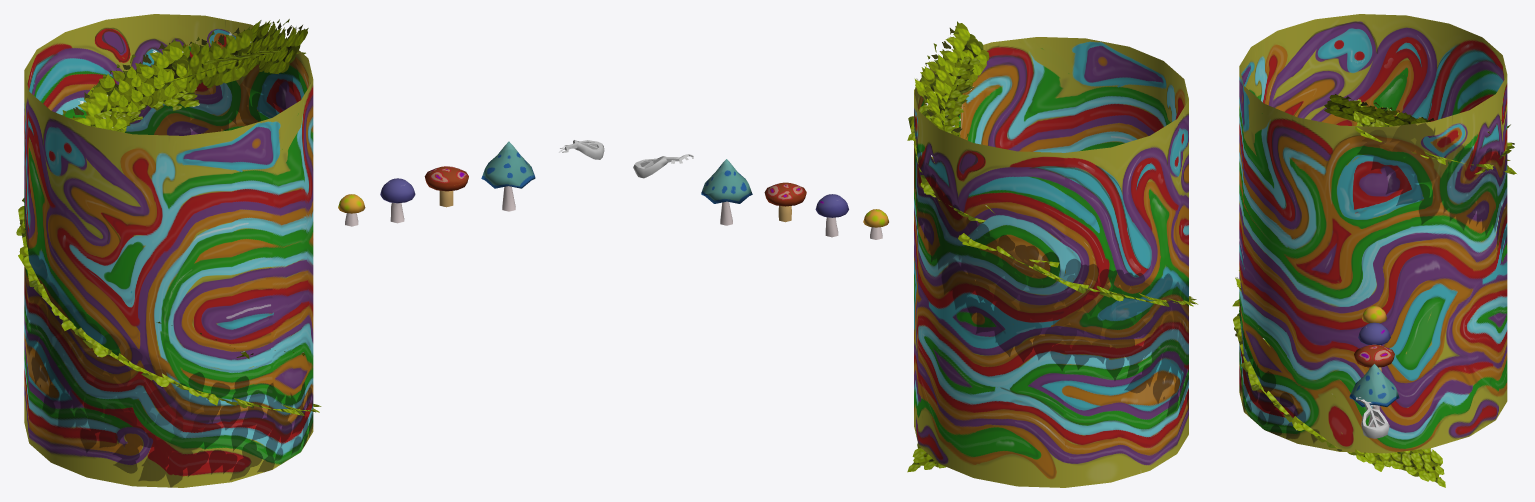
The model's file is section.dae.
3 views of the same model, side by side, from view 1: azimuth 30°, elevation 25°; view 2: azimuth 150°, elevation 25°; view 3: azimuth 270°, elevation 25° (orthographic). The views are drawn at different scales.
Visible parts, largest first — view 1: Cylinder001, Plane148, Plane149, Plane150, Sphere004, Plane147, Sphere003, Sphere002, Plane029; view 2: Cylinder001, Plane150, Sphere004, Plane020, Sphere003, Sphere002, Sphere005, Plane149; view 3: Cylinder001, Plane153, Plane150, Sphere004, Sphere003, Sphere005, Plane020, Sphere002, Plane018, Sphere001, Plane021, Plane025.
Part boxes in pixels (<box>): Cylinder001: <box>24,14,313,487</box>; Plane148: <box>84,39,188,129</box>; Plane149: <box>165,26,252,100</box>; Plane150: <box>236,19,308,74</box>; Sphere004: <box>481,141,535,211</box>; Plane147: <box>62,85,130,132</box>; Sphere003: <box>424,166,468,207</box>; Sphere002: <box>380,178,415,223</box>; Plane029: <box>94,89,199,119</box>; Cylinder001: <box>914,37,1188,487</box>; Plane150: <box>914,21,989,106</box>; Sphere004: <box>701,159,752,225</box>; Plane020: <box>907,56,980,140</box>; Sphere003: <box>764,182,806,222</box>; Sphere002: <box>815,194,848,237</box>; Sphere005: <box>633,154,693,178</box>; Plane149: <box>923,86,960,162</box>; Cylinder001: <box>1239,14,1507,453</box>; Plane153: <box>1355,448,1445,487</box>; Plane150: <box>1324,94,1426,125</box>; Sphere004: <box>1349,364,1399,426</box>; Sphere003: <box>1354,344,1394,371</box>; Sphere005: <box>1355,397,1389,438</box>; Plane020: <box>1353,99,1445,164</box>; Sphere002: <box>1358,322,1390,345</box>; Plane018: <box>1293,416,1390,471</box>; Sphere001: <box>1362,306,1386,323</box>; Plane021: <box>1241,361,1303,430</box>; Plane025: <box>1233,316,1263,390</box>.
Size of the model in its own units: 3.19 by 1.53 by 2.33.
